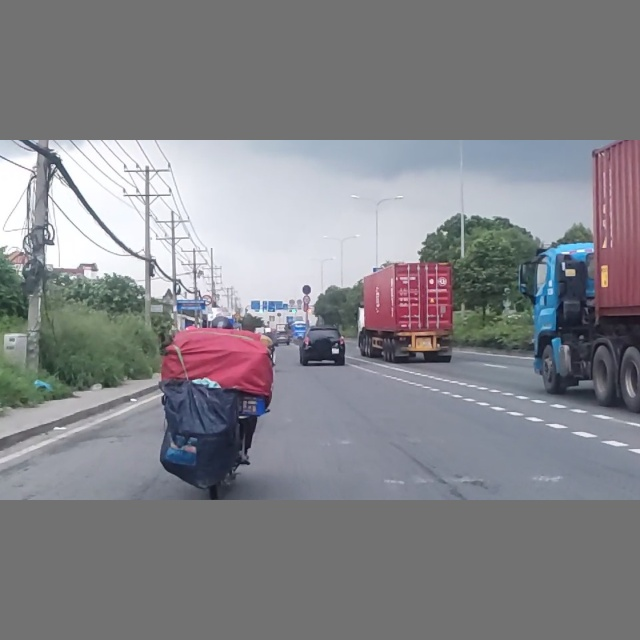P.117*: (201, 295, 213, 306)
P.130: (301, 284, 311, 293)
